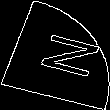N_W: (18, 28, 92, 82)
